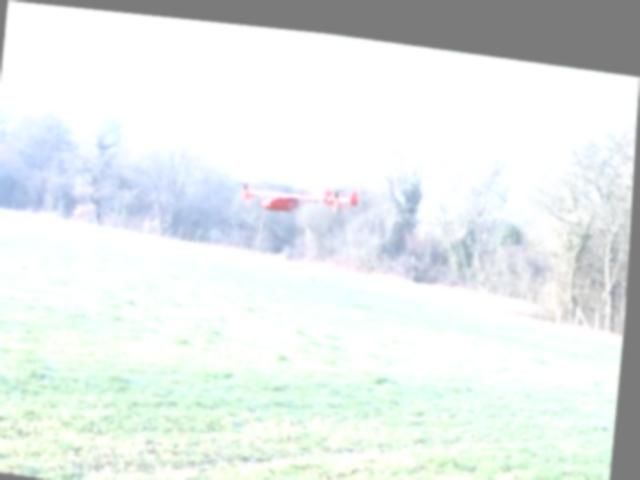uav: (238, 161, 360, 216)
